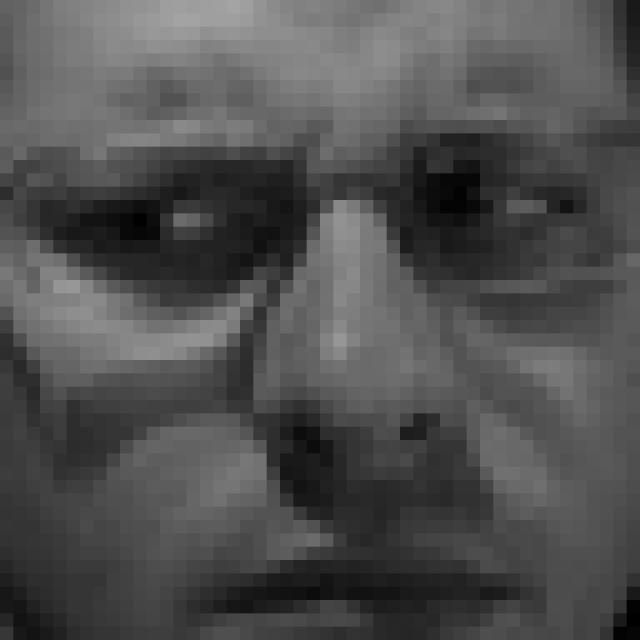disgust: (32, 91, 612, 640)
